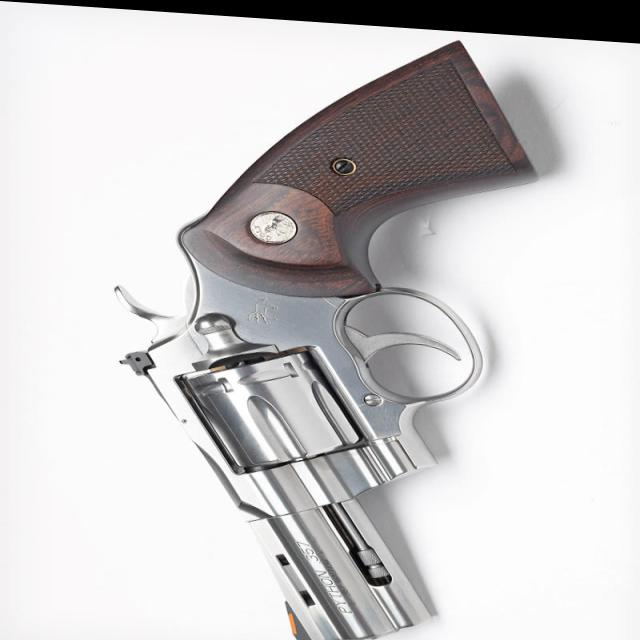handgun: (105, 13, 532, 640)
